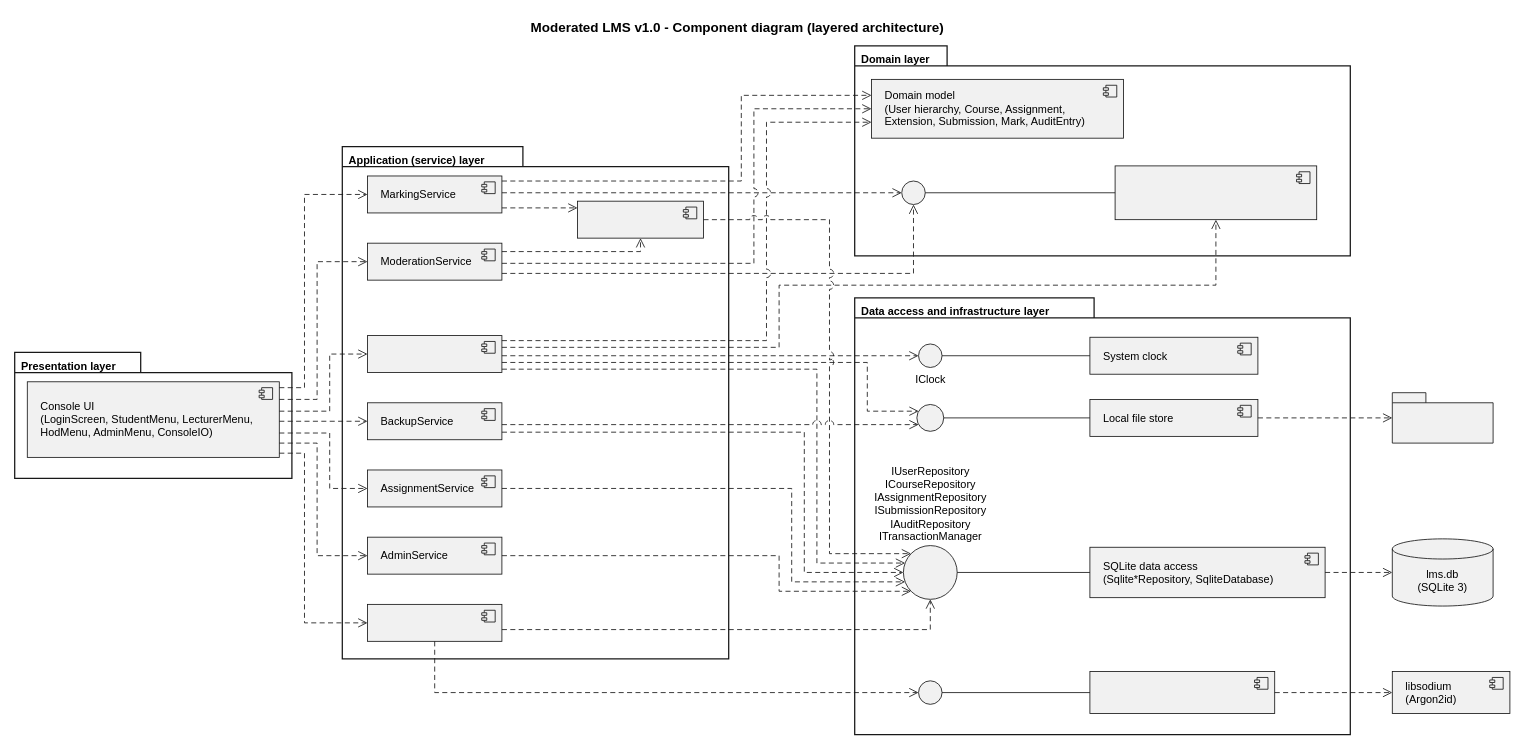
Image size: 1525x749. Some labels were removed from this diagram. The centre of each missing label's shape, as x and y in pixels:
"AuditService" goes at point (640, 219).
"AuthService" goes at point (434, 622).
"Business rules (DeadlineCalculator, TenPercentPerDayPolicy)" goes at point (1215, 192).
"IFileStore" goes at point (930, 417).
"ILatePenaltyPolicy" goes at point (913, 192).
"IPasswordHasher" goes at point (930, 692).
"Security (SodiumPasswordHasher)" goes at point (1182, 692).
"submissions/ backups/" goes at point (1442, 417).
"SubmissionService" goes at point (434, 354).
